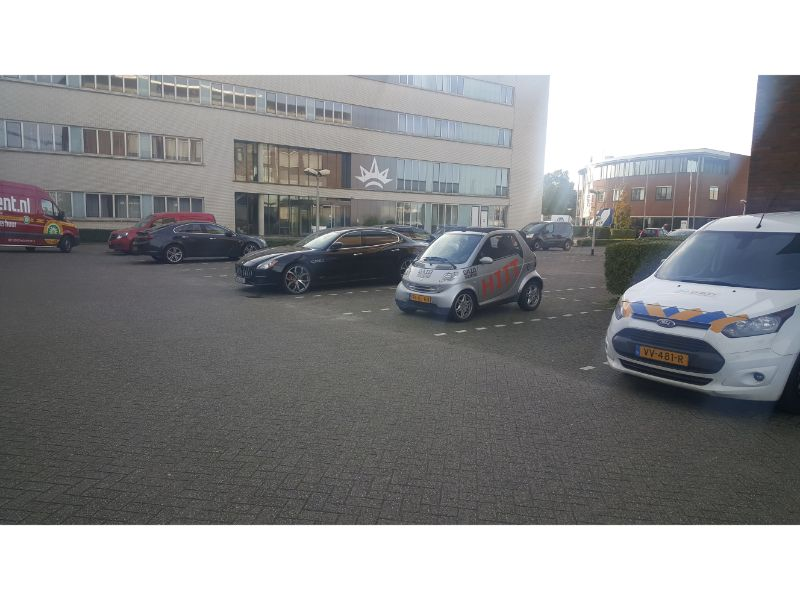kenteken: (633, 343, 689, 370), (404, 288, 434, 306)
